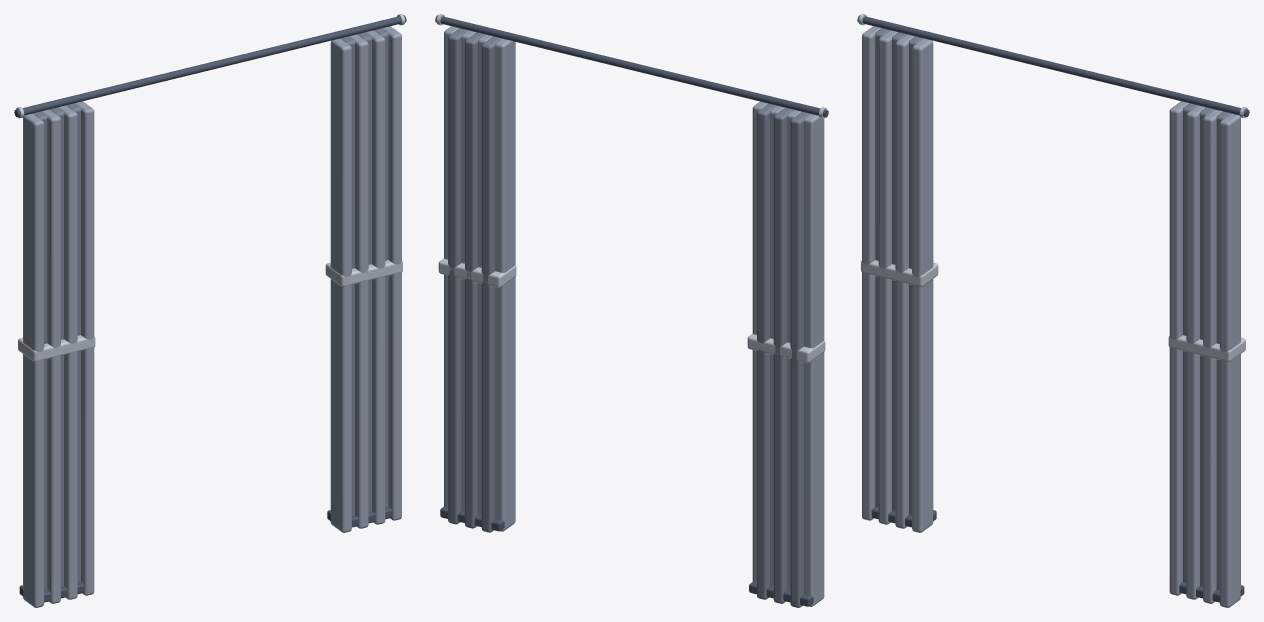
The model's file is curtain_split.glb.
3 renders of one model, left to right at view 1: azimuth 30°, elevation 25°; view 2: azimuth 150°, elevation 25°; view 3: azimuth 330°, elevation 25°, orthographic.
Visible parts, largest first — view 1: curtain_split; view 2: curtain_split; view 3: curtain_split.
Boxes of the visible parts, x1,y1,x2,y2 form: curtain_split: (14, 14, 406, 607); curtain_split: (435, 14, 828, 607); curtain_split: (857, 14, 1249, 607).
Size of the model in its own units: 1.91 by 2.33 by 0.1476.
